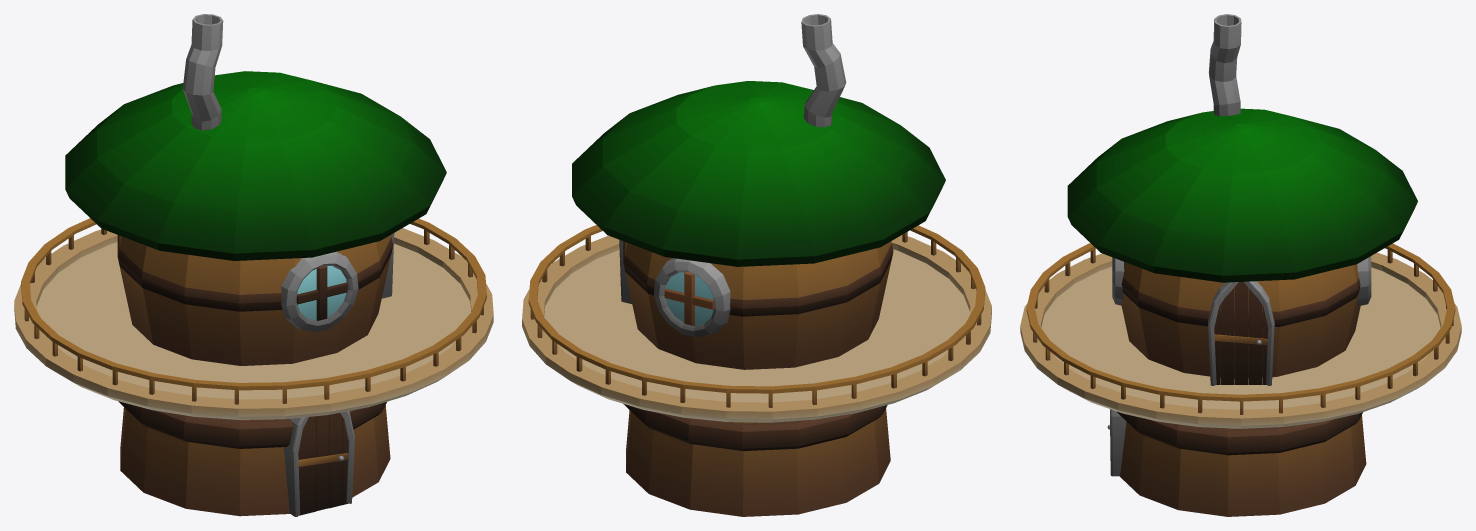
Rendered from Casa_3_elementosDecorativos_T.fbx.
3 views of the same model, side by side, from view 1: azimuth 30°, elevation 25°; view 2: azimuth 150°, elevation 25°; view 3: azimuth 270°, elevation 25° (orthographic). The views are drawn at different scales.
Parts seen in each view (by area): view 1: Casa 1.002; view 2: Casa 1.002; view 3: Casa 1.002.
Part boxes in pixels (left/top/right/bottom): Casa 1.002: left=14, top=14, right=493, bottom=516; Casa 1.002: left=522, top=14, right=991, bottom=516; Casa 1.002: left=1020, top=14, right=1461, bottom=516.
Bounding box in the file's own units: 388 × 408 × 388.
